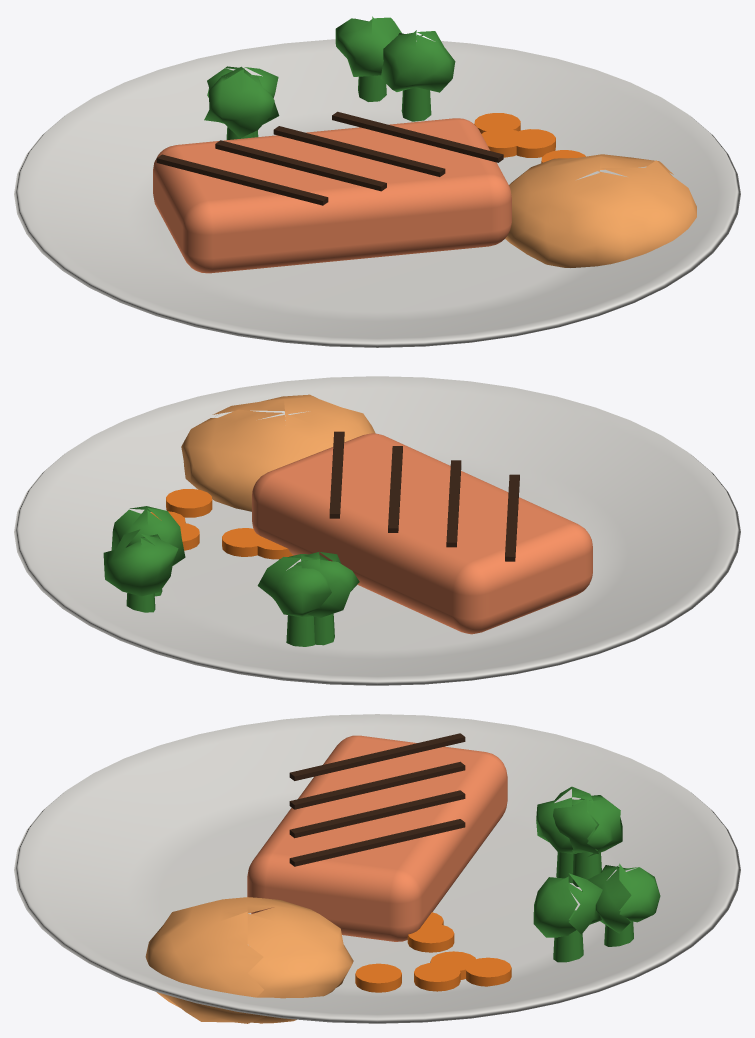
The model's file is salmao.glb.
The picture shows the model from 3 angles, top to bottom: view 1: azimuth 30°, elevation 25°; view 2: azimuth 150°, elevation 25°; view 3: azimuth 270°, elevation 25°; orthographic projection.
Parts seen in each view (by area): view 1: salmao; view 2: salmao; view 3: salmao.
Boxes of the visible parts, <box> form: salmao: <box>14,16,740,347</box>; salmao: <box>14,376,740,685</box>; salmao: <box>14,714,740,1023</box>.
Bounding box in the file's own units: 0.28 × 0.0537 × 0.28.
